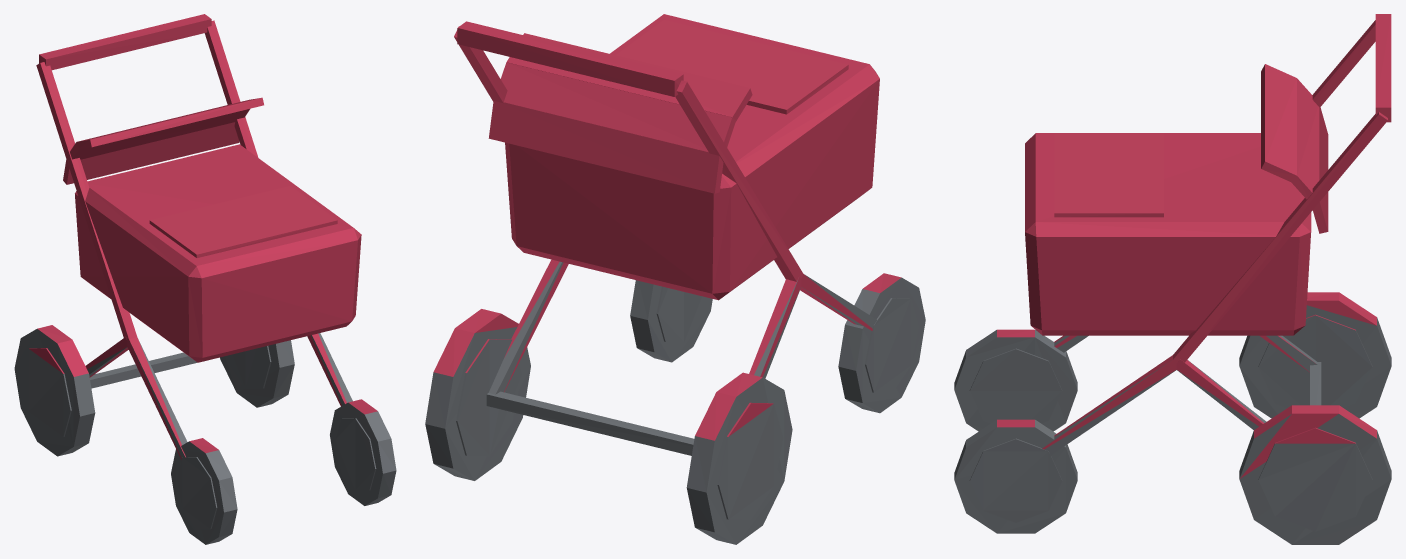
Rendered from baby-stroller-00.glb.
3 renders of one model, left to right at view 1: azimuth 30°, elevation 25°; view 2: azimuth 150°, elevation 25°; view 3: azimuth 270°, elevation 25°, orthographic. The views are drawn at different scales.
Parts seen in each view (by area): view 1: baby_stroller_00; view 2: baby_stroller_00; view 3: baby_stroller_00.
Part boxes in pixels (<box>): baby_stroller_00: <box>14,14,396,544</box>; baby_stroller_00: <box>425,14,925,544</box>; baby_stroller_00: <box>954,14,1391,544</box>.
Bounding box in the file's own units: 0.6417 × 1.03 × 0.964.
